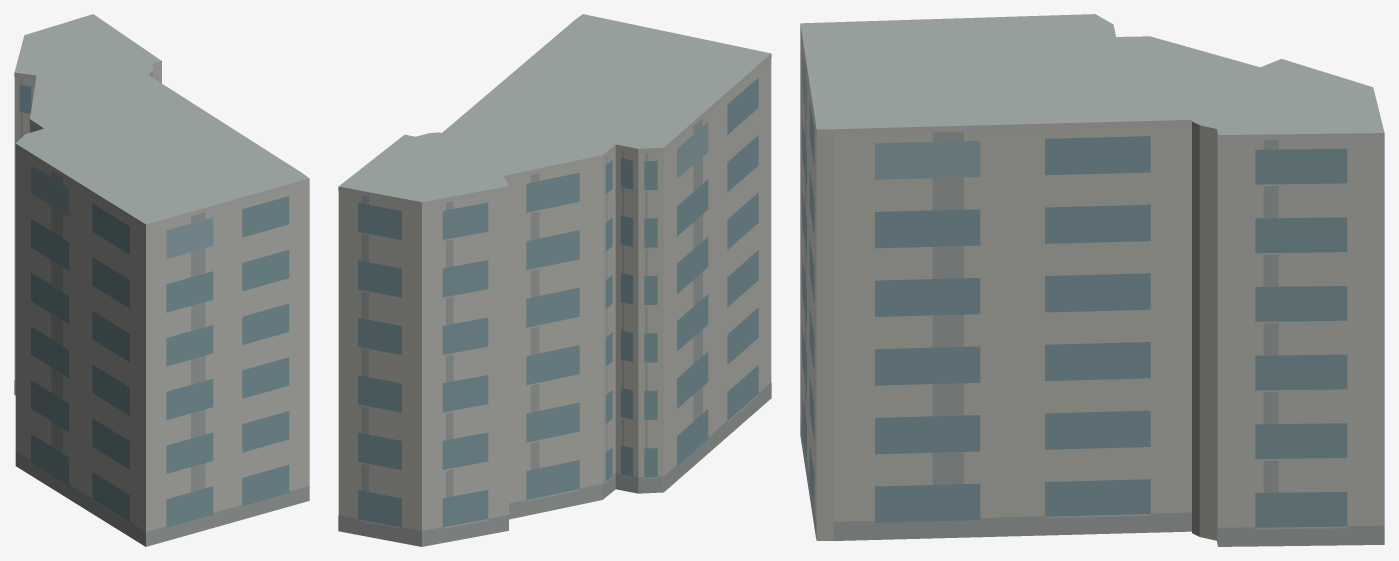
The model's file is survey-upis-32977403.glb.
3 renders of one model, left to right at view 1: azimuth 30°, elevation 25°; view 2: azimuth 150°, elevation 25°; view 3: azimuth 270°, elevation 25°, orthographic. The views are drawn at different scales.
Parts seen in each view (by area): view 1: survey-upis-32977403.tmp; view 2: survey-upis-32977403.tmp; view 3: survey-upis-32977403.tmp.
Part boxes in pixels (bbox=[...]): survey-upis-32977403.tmp: bbox=[14, 14, 309, 546]; survey-upis-32977403.tmp: bbox=[338, 14, 771, 546]; survey-upis-32977403.tmp: bbox=[800, 14, 1384, 546].
Size of the model in its own units: 10.98 by 17.4 by 22.38.
